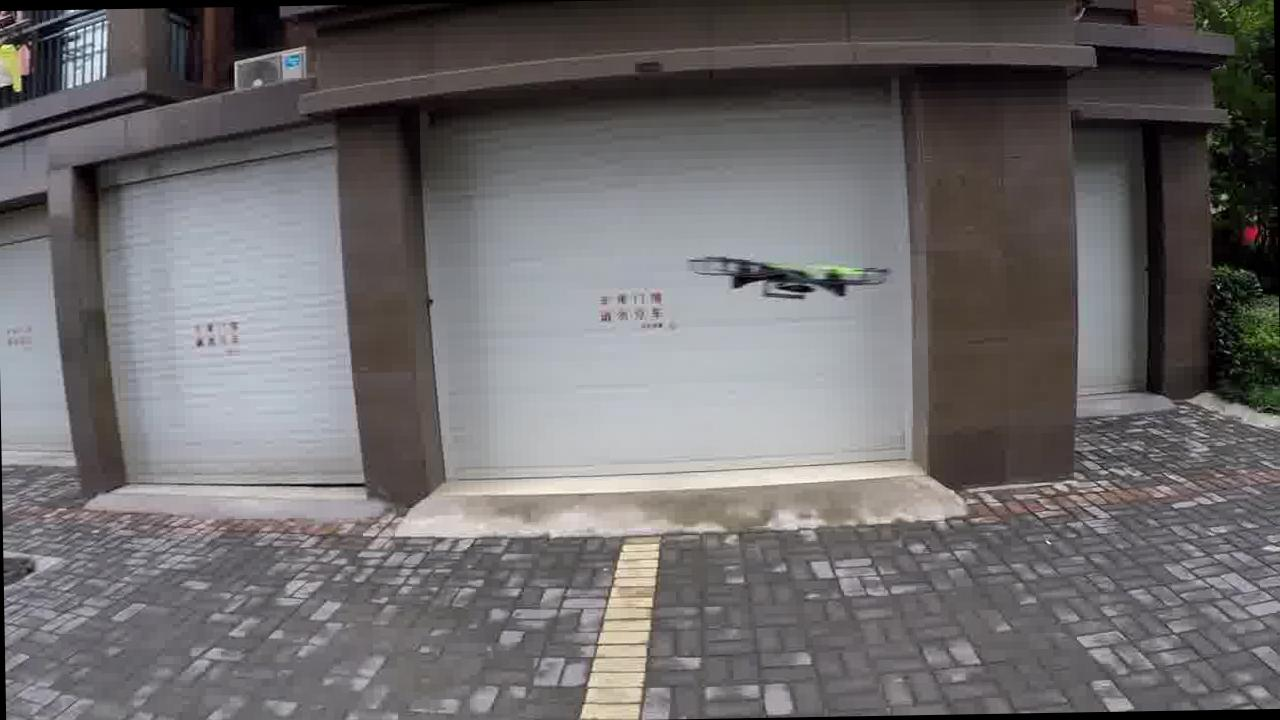drone: (684, 250, 910, 302)
